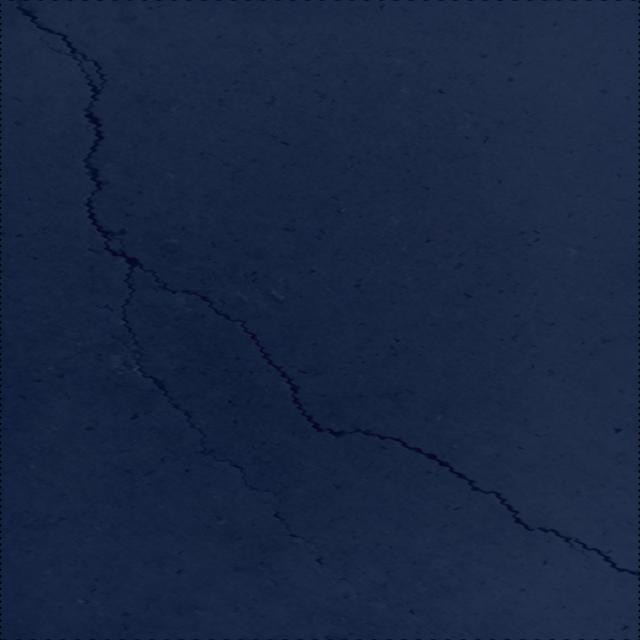crack: (17, 0, 640, 579), (260, 501, 372, 593), (393, 595, 438, 640), (42, 352, 96, 367)
